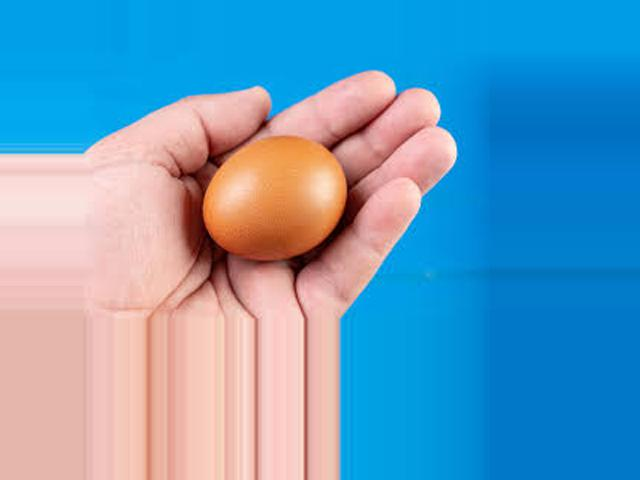egg: (203, 136, 349, 257)
